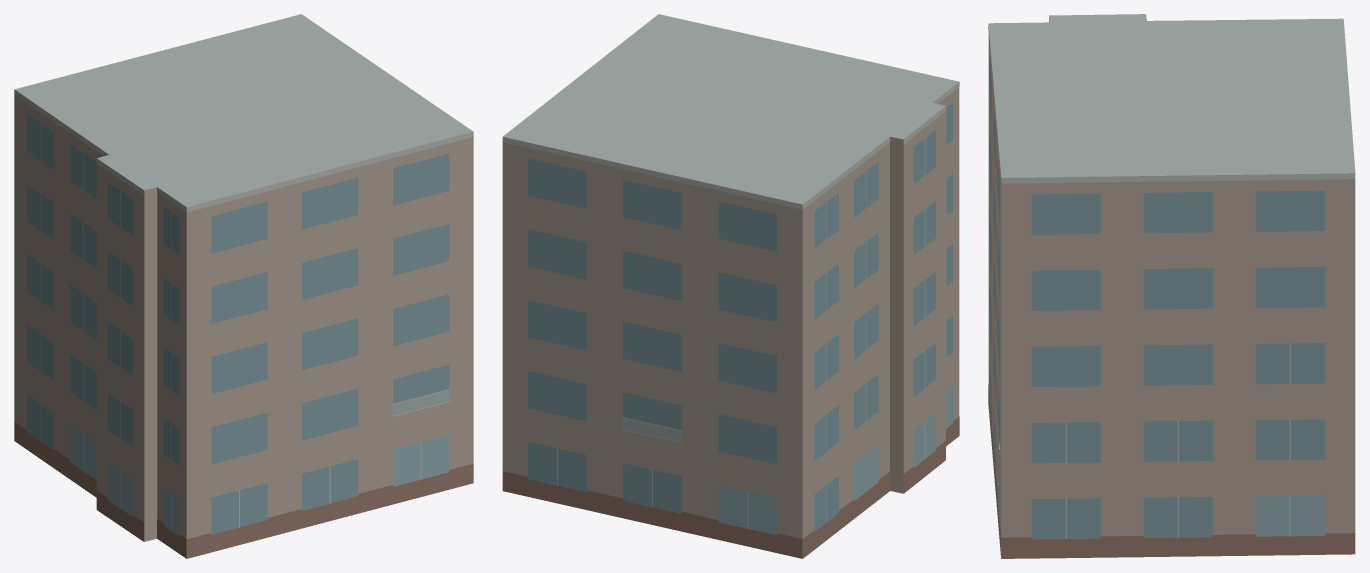
The model's file is survey-upis-32542444.glb.
The picture shows the model from 3 angles, left to right: view 1: azimuth 30°, elevation 25°; view 2: azimuth 150°, elevation 25°; view 3: azimuth 270°, elevation 25°; orthographic projection. The views are drawn at different scales.
Parts seen in each view (by area): view 1: survey-upis-32542444.tmp; view 2: survey-upis-32542444.tmp; view 3: survey-upis-32542444.tmp.
Part boxes in pixels (bbox=[...]): survey-upis-32542444.tmp: bbox=[14, 14, 473, 558]; survey-upis-32542444.tmp: bbox=[502, 14, 959, 558]; survey-upis-32542444.tmp: bbox=[988, 14, 1355, 558].
Bounding box in the file's own units: 14.95 × 16.2 × 14.15.
